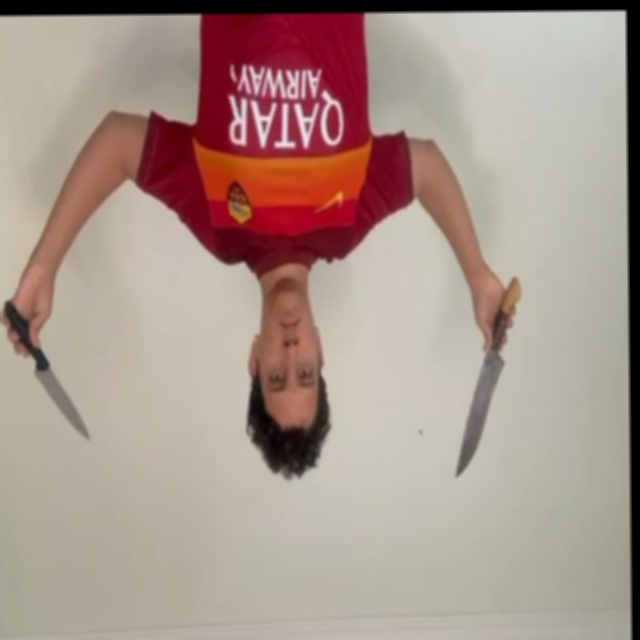Sharp-Object: (452, 359, 506, 482), (34, 373, 90, 442)
